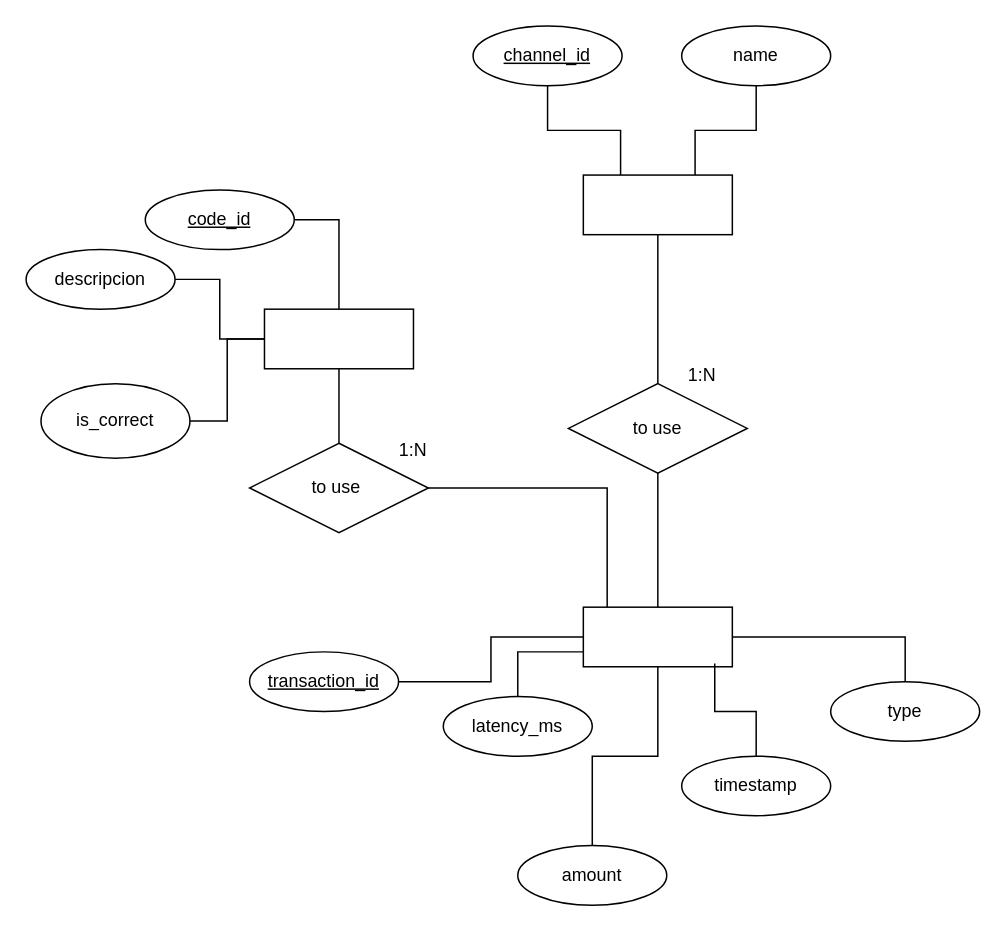
This 1006x931 diagram has some shape labels left out. The centre of each missing label's shape, as x and y in pixels:
"CHANNEL" goes at pixel 657 204.
"CODE" goes at pixel 338 338.
"TRANSACTION" goes at pixel 657 636.
